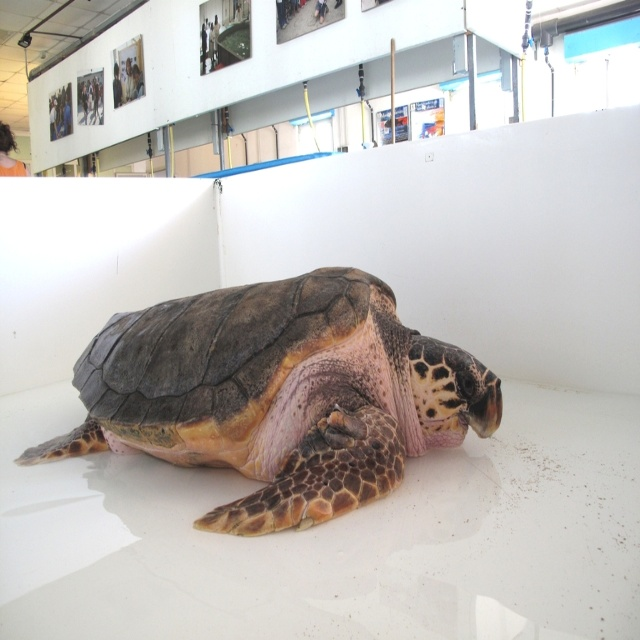Sea turtle: (15, 264, 504, 540)
